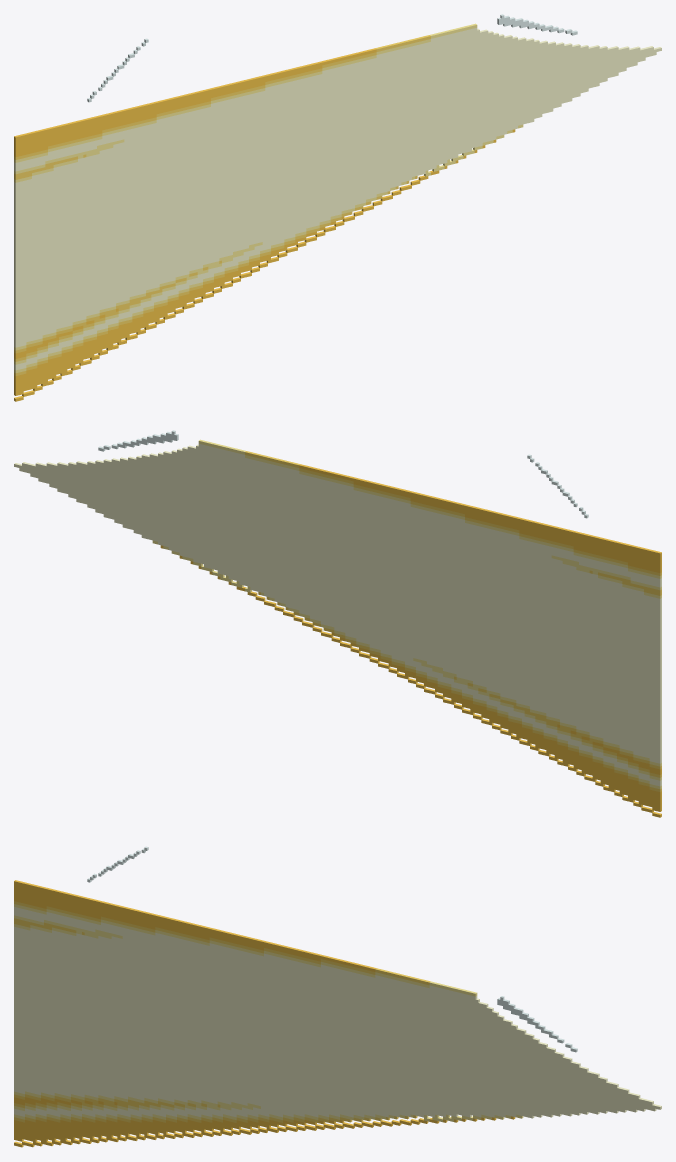
The model's file is Fight_746_2_06_fx.obj.
3 renders of one model, top to bottom at view 1: azimuth 30°, elevation 25°; view 2: azimuth 150°, elevation 25°; view 3: azimuth 330°, elevation 25°, orthographic.
Size of the model in its own units: 23.8 by 11.6 by 0.1.
1 material, 1 textured.
